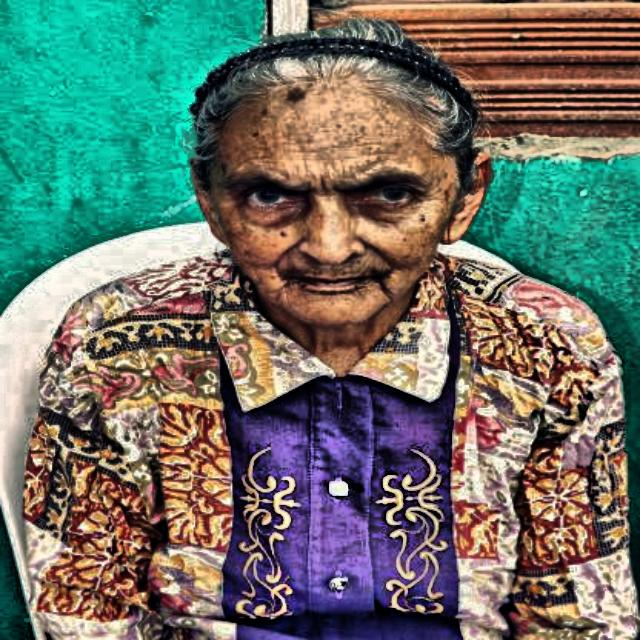sad: (167, 27, 491, 345)
